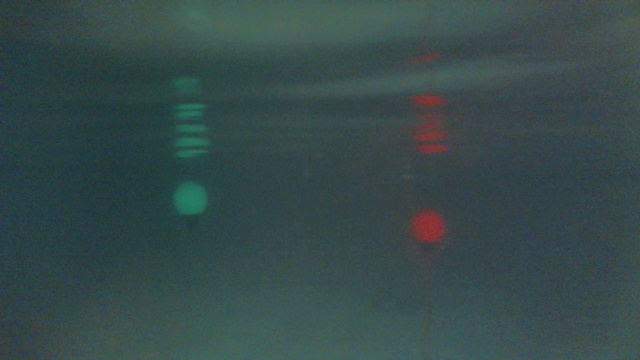buoy_green: (173, 177, 208, 231)
buoy_red: (412, 210, 443, 255)
